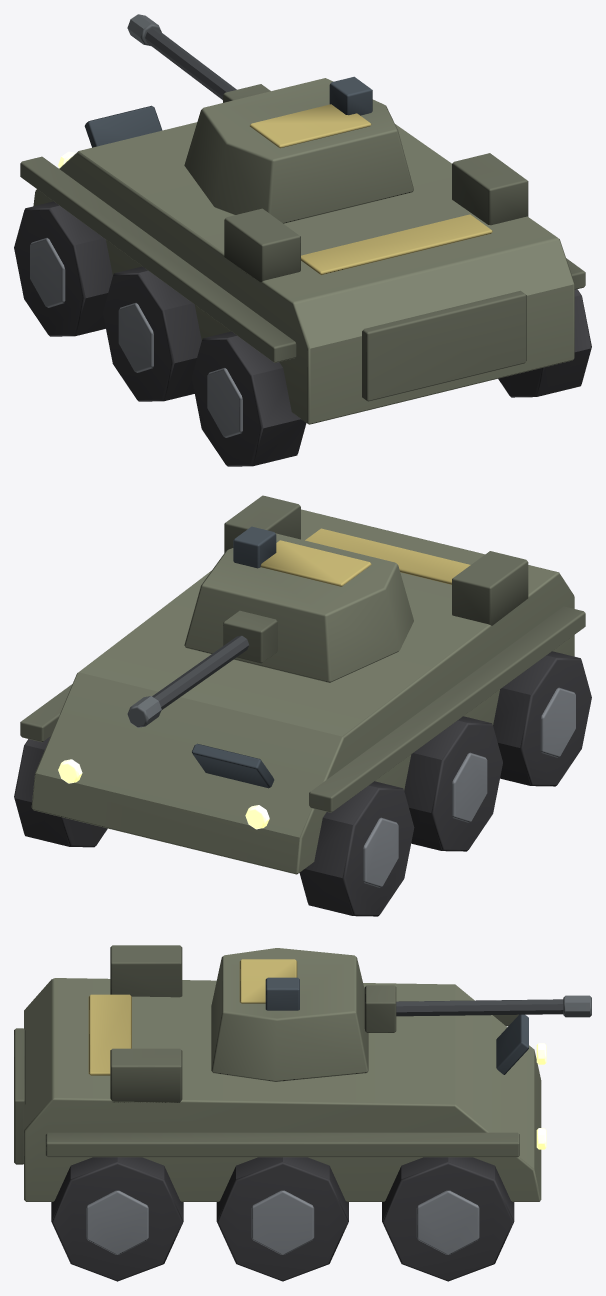
File: assault_vehicle.glb
3 renders of one model, top to bottom at view 1: azimuth 30°, elevation 25°; view 2: azimuth 150°, elevation 25°; view 3: azimuth 270°, elevation 25°, orthographic. The views are drawn at different scales.
Visible parts, largest first — view 1: Body, Turret; view 2: Body, Turret; view 3: Body, Turret.
Part boxes in pixels (x1,y1,x2,y2): Body: (14,105,591,466); Turret: (127,14,413,223); Body: (14,495,591,916); Turret: (127,526,413,727); Body: (14,945,546,1281); Turret: (211,948,591,1081).
Bounding box in the file's own units: 2.52 × 1.89 × 4.02.
